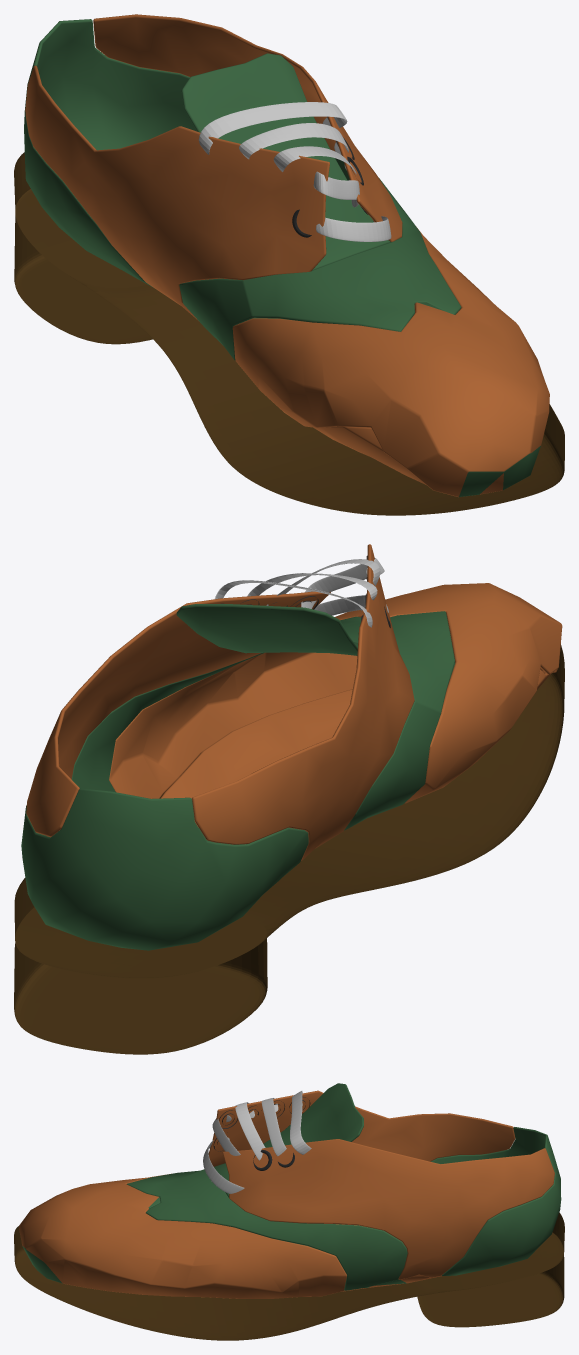
Rendered from za2ve2izquierda.fbx.
The picture shows the model from 3 angles, top to bottom: view 1: azimuth 30°, elevation 25°; view 2: azimuth 150°, elevation 25°; view 3: azimuth 270°, elevation 25°; orthographic projection. The views are drawn at different scales.
Visible parts, largest first — view 1: zapato2, Plane, Plane.004, Plane.003, Plane.005, Plane.002, Plane.001; view 2: zapato2, Plane, Plane.002, Plane.003, Plane.005, Plane.004; view 3: zapato2, Plane, Plane.001, Plane.003, Plane.004, Plane.005, Plane.002.
Boxes of the visible parts, box(x1,y1,x2,y2) form: zapato2: box(24, 14, 549, 497); Plane: box(14, 152, 564, 515); Plane.004: box(198, 102, 347, 154); Plane.003: box(239, 123, 348, 159); Plane.005: box(316, 216, 391, 241); Plane.002: box(313, 171, 359, 207); Plane.001: box(273, 146, 356, 174); zapato2: box(21, 544, 562, 950); Plane: box(14, 644, 564, 1054); Plane.002: box(301, 558, 384, 608); Plane.003: box(247, 573, 377, 610); Plane.005: box(314, 595, 388, 615); Plane.004: box(215, 580, 372, 627); zapato2: box(18, 1083, 561, 1298); Plane: box(14, 1212, 564, 1340); Plane.001: box(235, 1102, 265, 1160); Plane.003: box(261, 1098, 286, 1156); Plane.004: box(290, 1091, 311, 1154); Plane.005: box(203, 1137, 244, 1193); Plane.002: box(212, 1115, 240, 1155).
Bounding box in the file's own units: 169 × 176 × 447.
